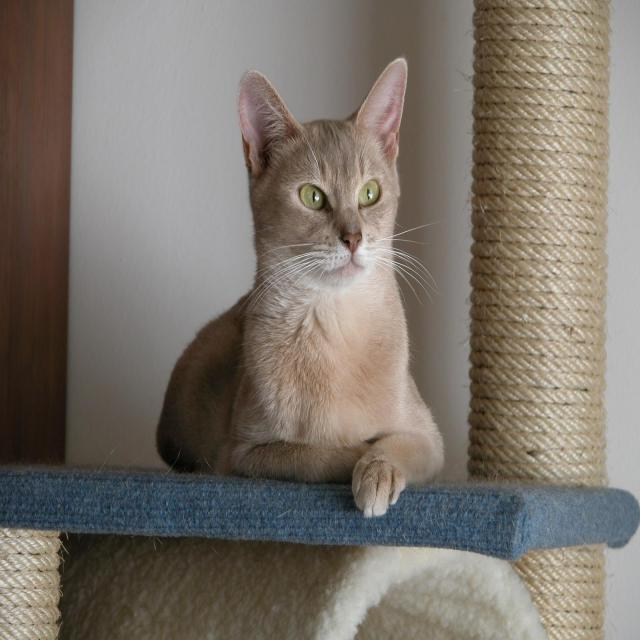Abyssinian: (237, 57, 406, 292)
